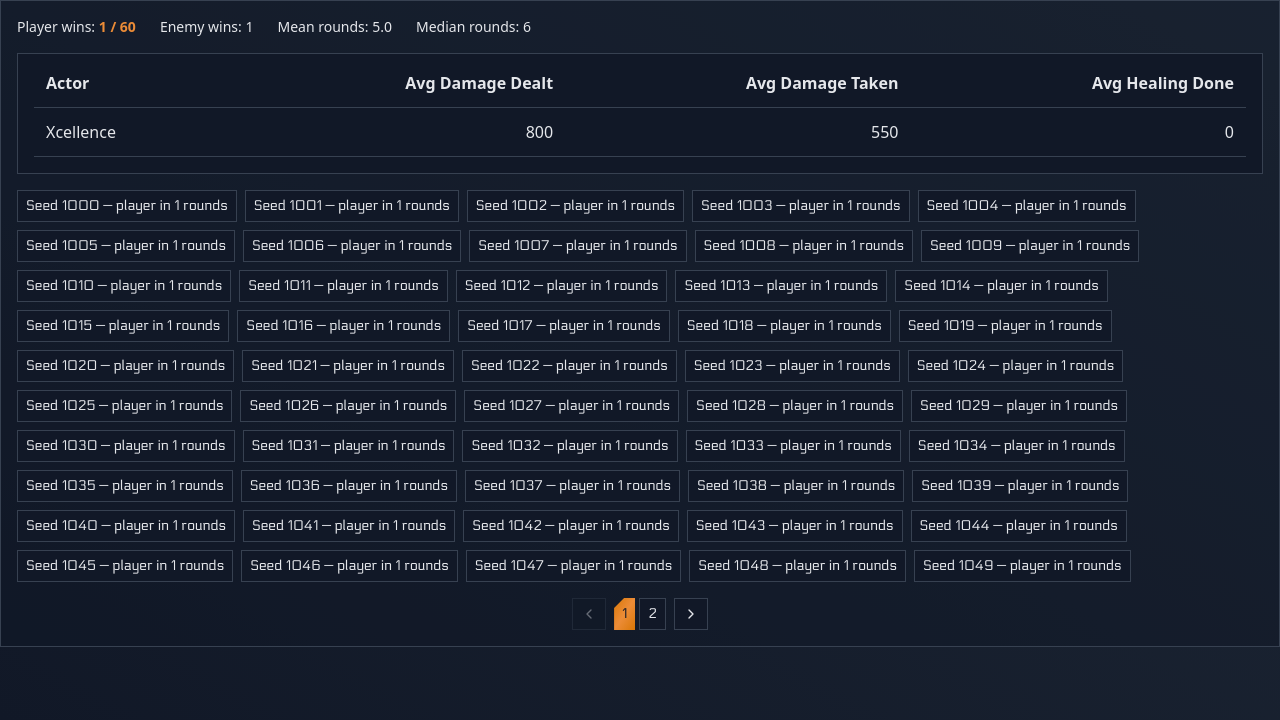
Test case: SeedSetResults pagination › reveals the next page of seeds when the pagination control advances
What coordinates should you click on to do the following:
click the button "2"
I would click on:
 (653, 614)
Its box is [640,598,666,630].
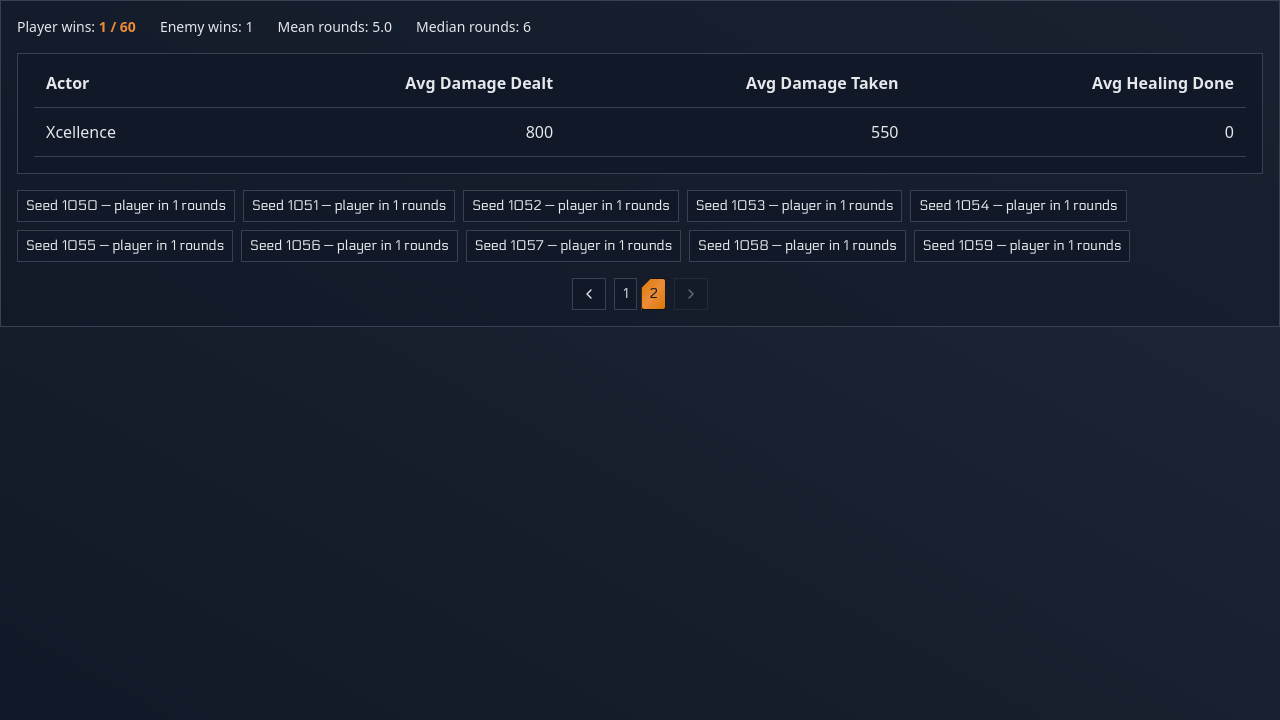
Check: the button "Seed 1055 — player in 1 rounds" is shown, box [17,230,233,262]
Check: the button "Seed 1000 —" is gone
